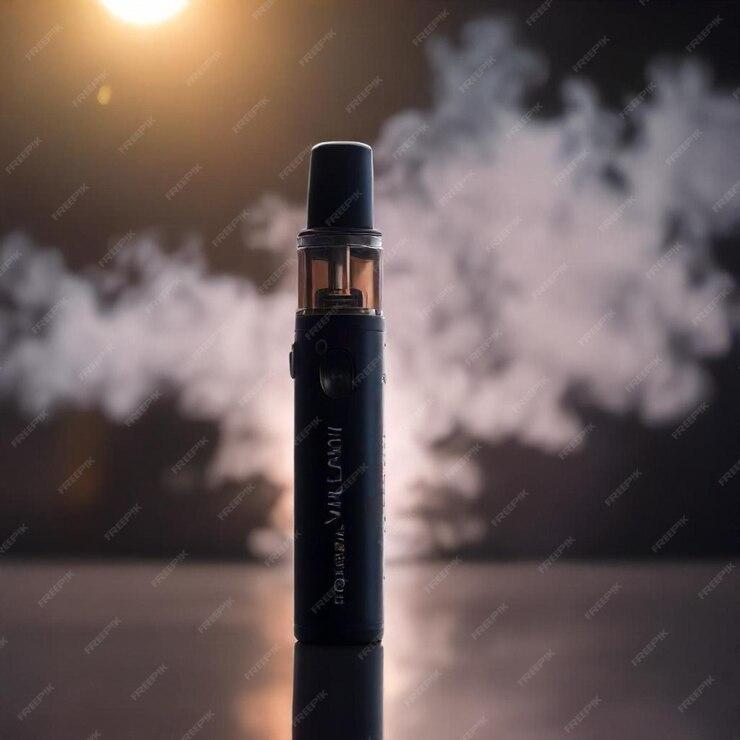Vape: (289, 141, 382, 645)
